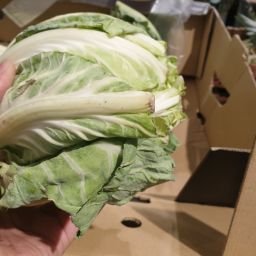Cauliflower: (1, 3, 199, 256), (5, 93, 172, 219), (25, 39, 191, 141)
